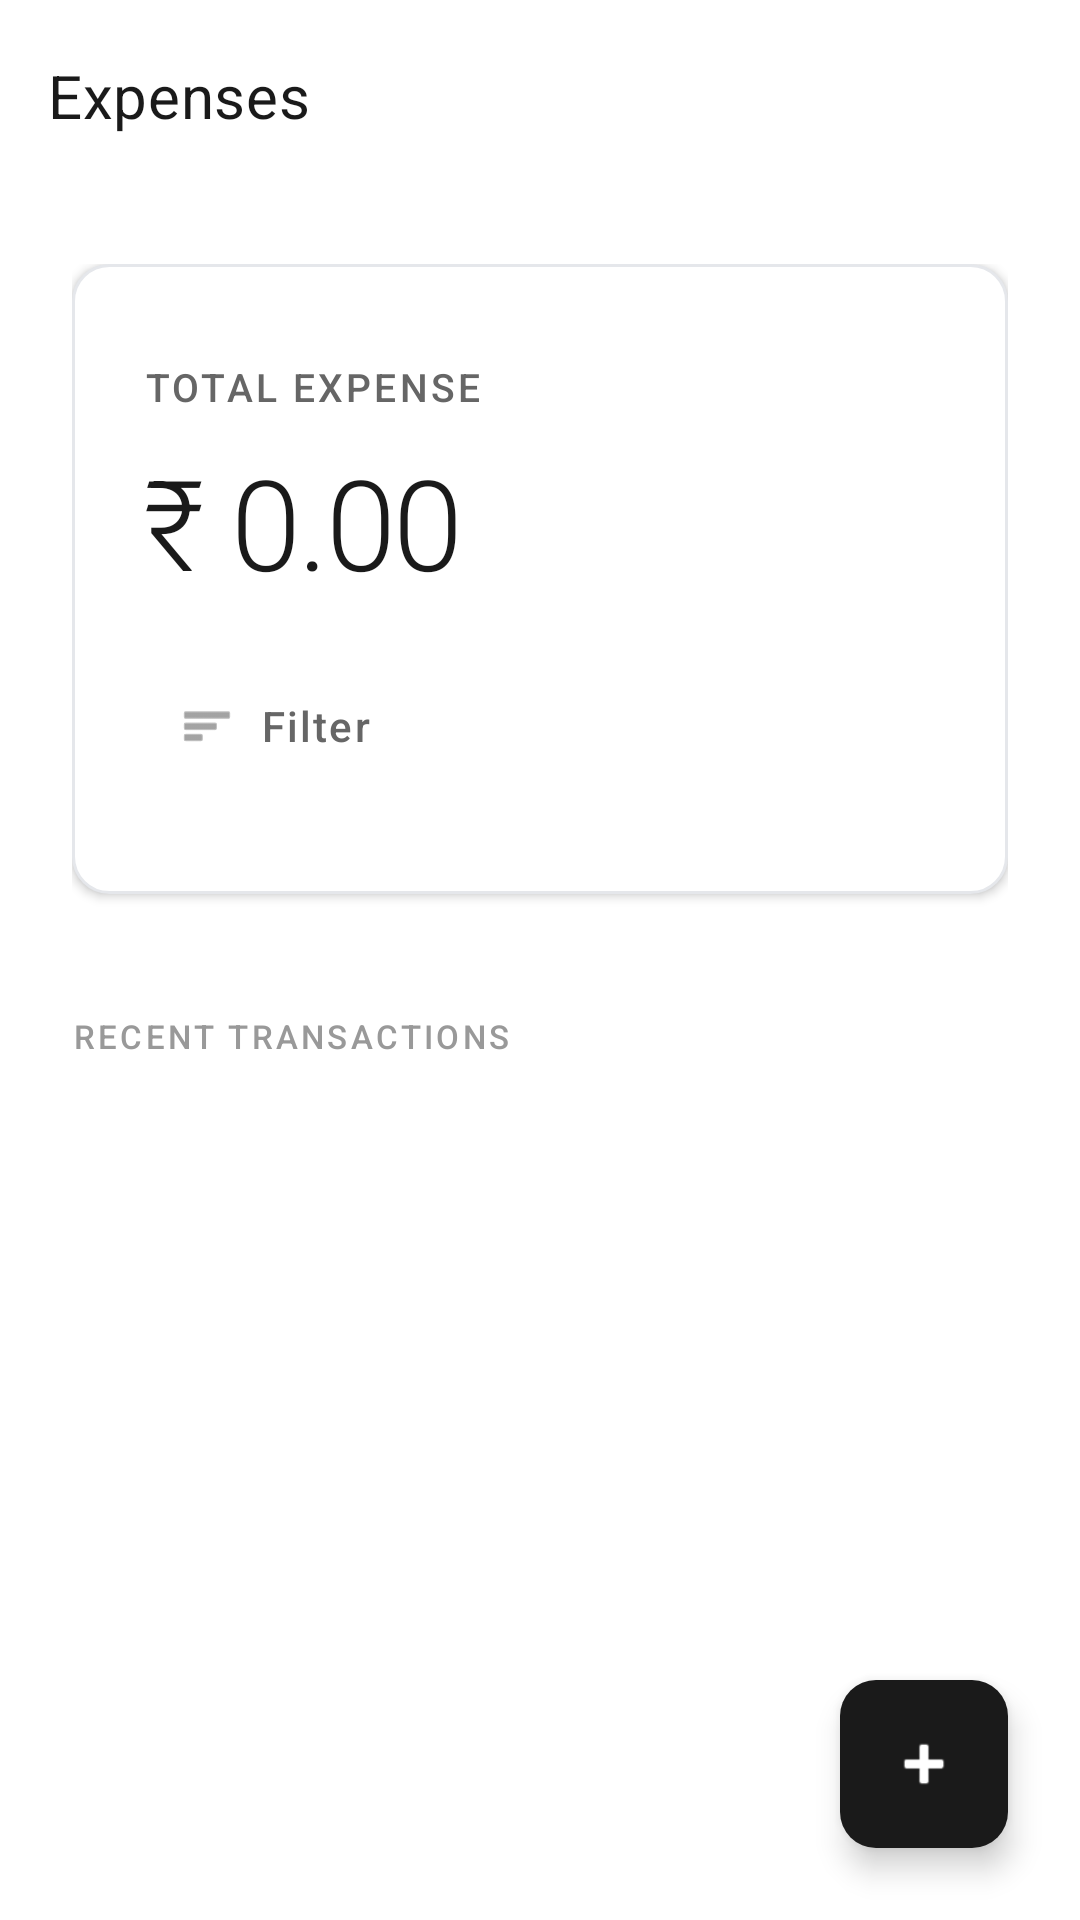

Icons on this 1080×1920 Android screen, each with the point to tap as (x,y):
Add Expense: (924,1764)
